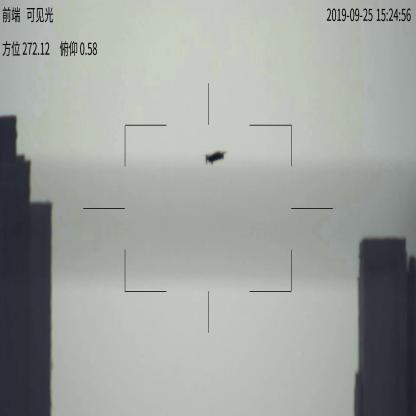uav: (203, 150, 224, 164)
